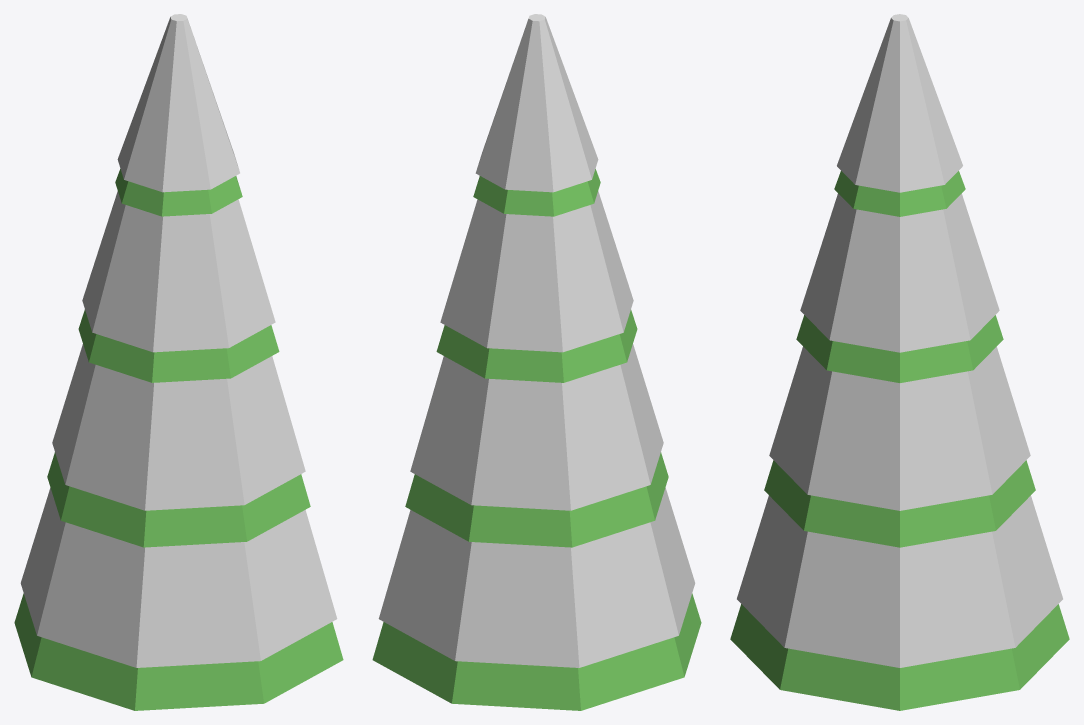
Rendered from Spruce Tree 3.fbx.
3 views of the same model, side by side, from view 1: azimuth 30°, elevation 25°; view 2: azimuth 150°, elevation 25°; view 3: azimuth 270°, elevation 25° (orthographic).
Parts seen in each view (by area): view 1: Spruce Tree 3; view 2: Spruce Tree 3; view 3: Spruce Tree 3.
Part boxes in pixels (x1,y1,x2,y2): Spruce Tree 3: (14,14,343,710); Spruce Tree 3: (372,14,701,710); Spruce Tree 3: (730,14,1069,710).
Size of the model in its own units: 83.79 by 186 by 83.79.
